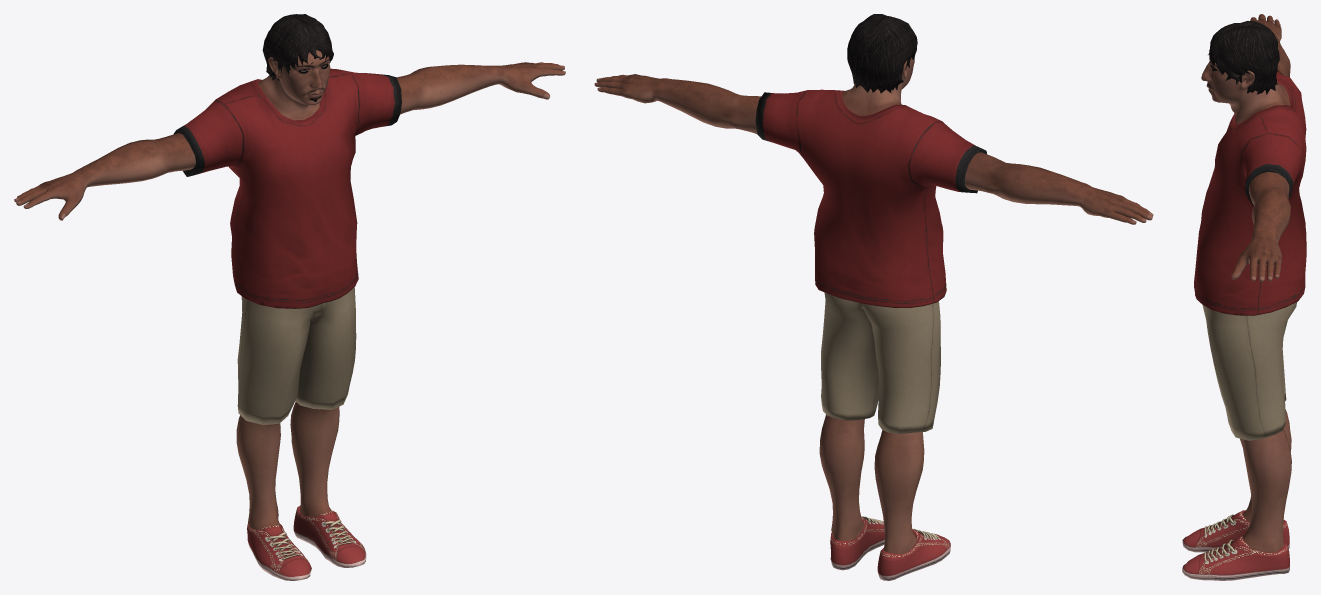
File: NPC8.obj
The picture shows the model from 3 angles, left to right: view 1: azimuth 30°, elevation 25°; view 2: azimuth 150°, elevation 25°; view 3: azimuth 270°, elevation 25°; orthographic projection.
Visible parts, largest first — view 1: Tops, Body, Bottoms, Shoes, Hair; view 2: Tops, Body, Bottoms, Hair, Shoes; view 3: Tops, Body, Bottoms, Shoes, Hair.
Boxes of the visible parts, left/top/right/bottom form: Tops: left=174, top=68, right=401, bottom=308; Body: left=14, top=49, right=565, bottom=529; Bottoms: left=237, top=287, right=356, bottom=424; Shoes: left=247, top=506, right=366, bottom=580; Hair: left=262, top=14, right=333, bottom=80; Tops: left=755, top=89, right=986, bottom=307; Body: left=594, top=57, right=1153, bottom=554; Bottoms: left=821, top=292, right=940, bottom=434; Hair: left=847, top=14, right=917, bottom=93; Shoes: left=830, top=516, right=950, bottom=580; Tops: left=1194, top=70, right=1306, bottom=315; Body: left=1201, top=14, right=1291, bottom=552; Bottoms: left=1202, top=302, right=1296, bottom=440; Shoes: left=1182, top=510, right=1289, bottom=580; Hair: left=1208, top=21, right=1279, bottom=94.
Size of the model in its own units: 194 by 180 by 37.99.
Materials: 6 (6 with a texture image).
